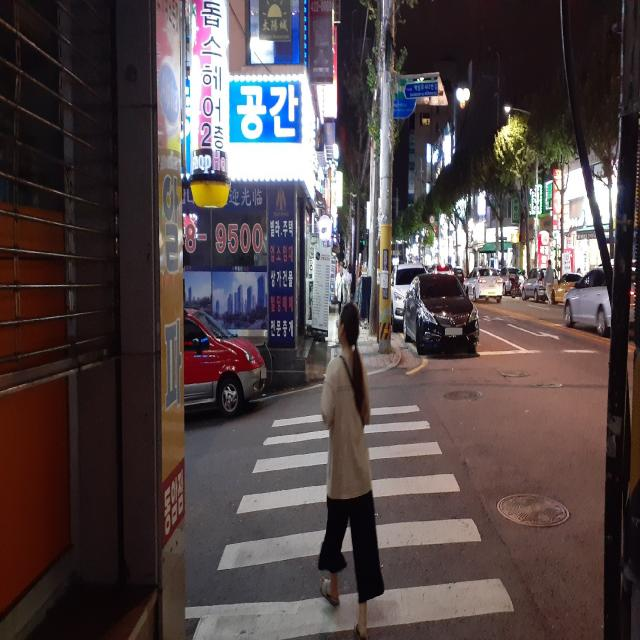횡단보도: (191, 401, 516, 640)
